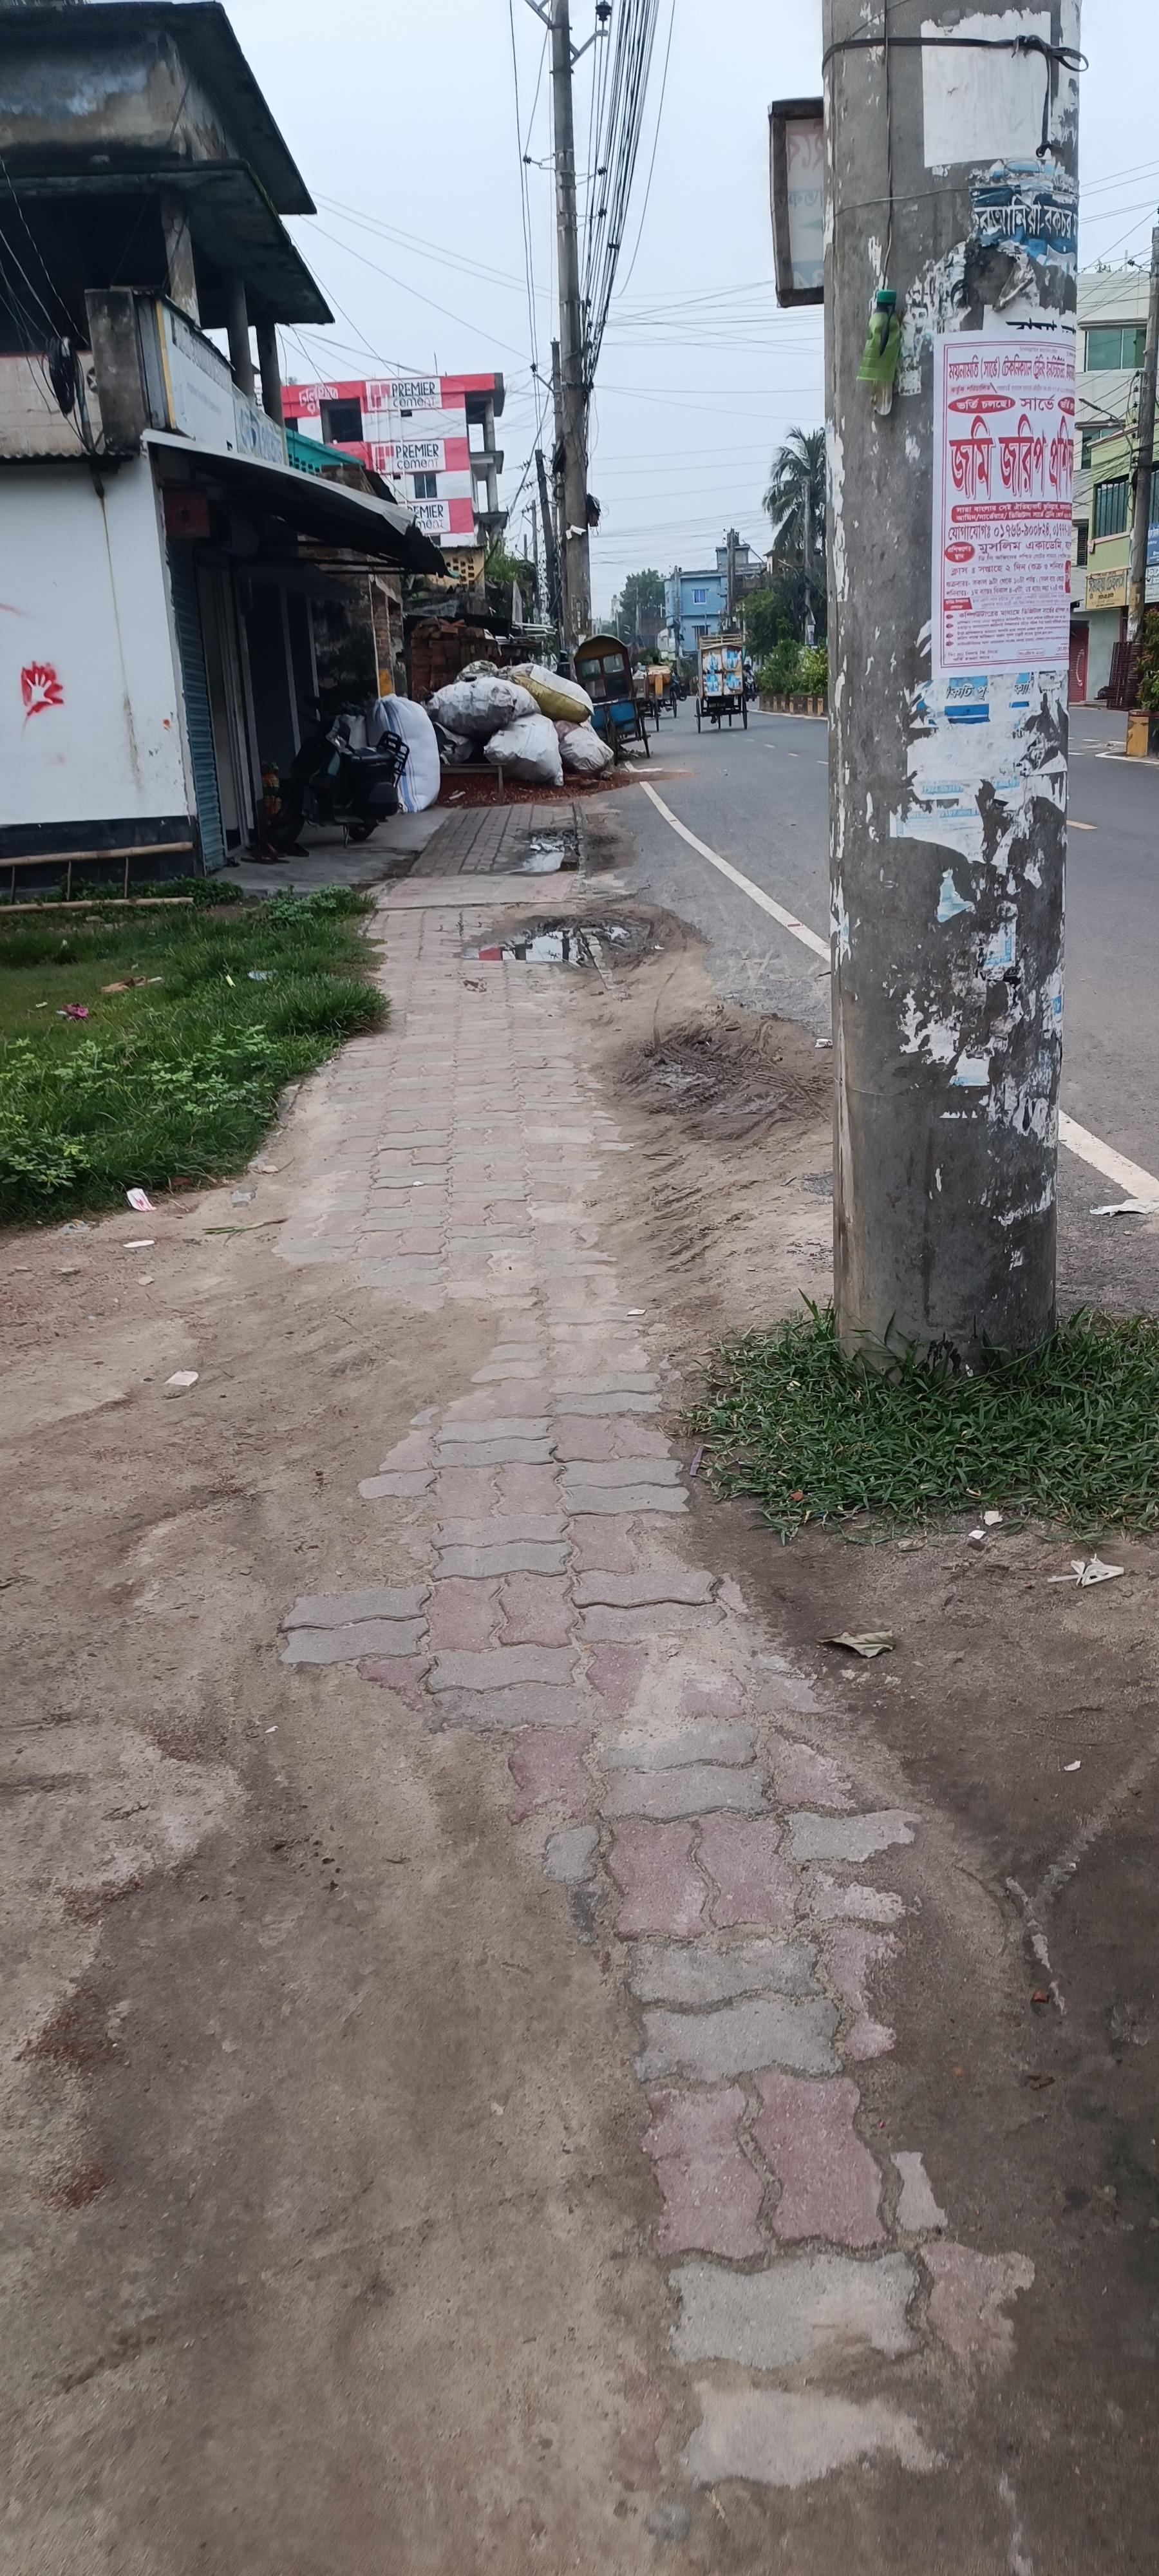Fallen-tree: (268, 710, 412, 853)
Light-pole: (819, 3, 1083, 1380), (542, 238, 619, 748)
Pothole: (7, 692, 839, 2568)
Traffic-cone: (696, 632, 749, 721)
